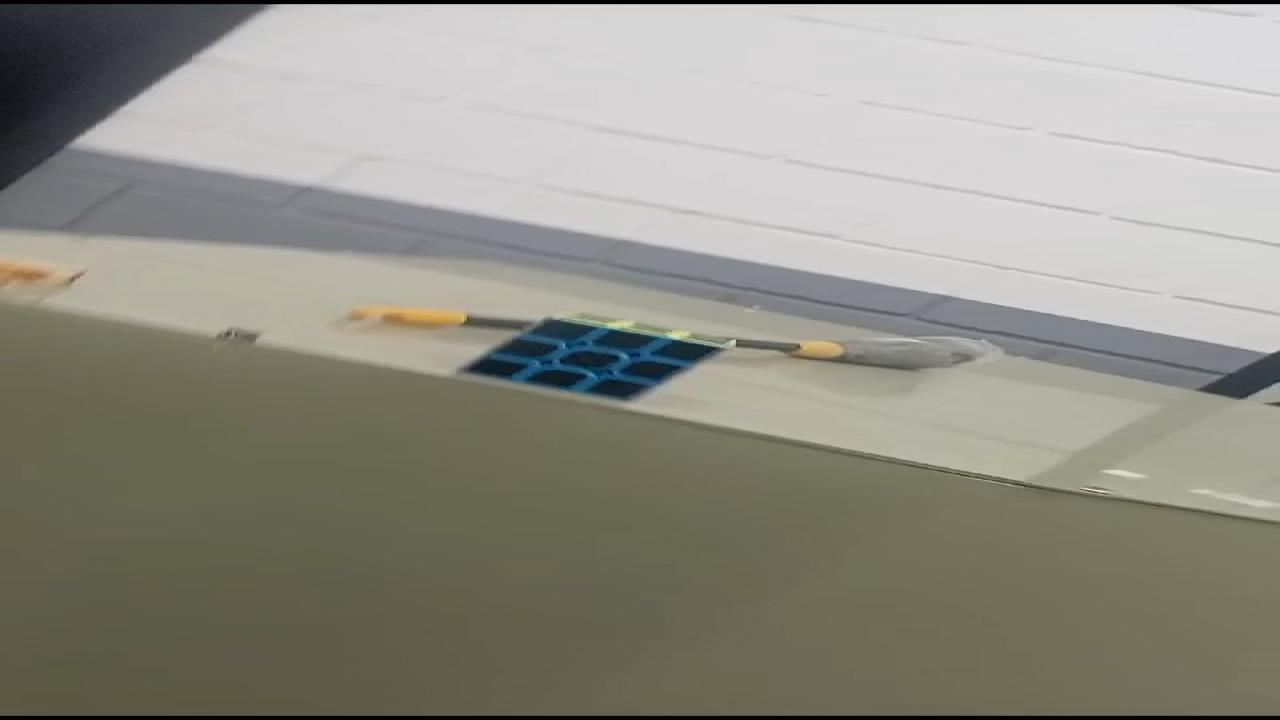Cube: (456, 310, 733, 403)
